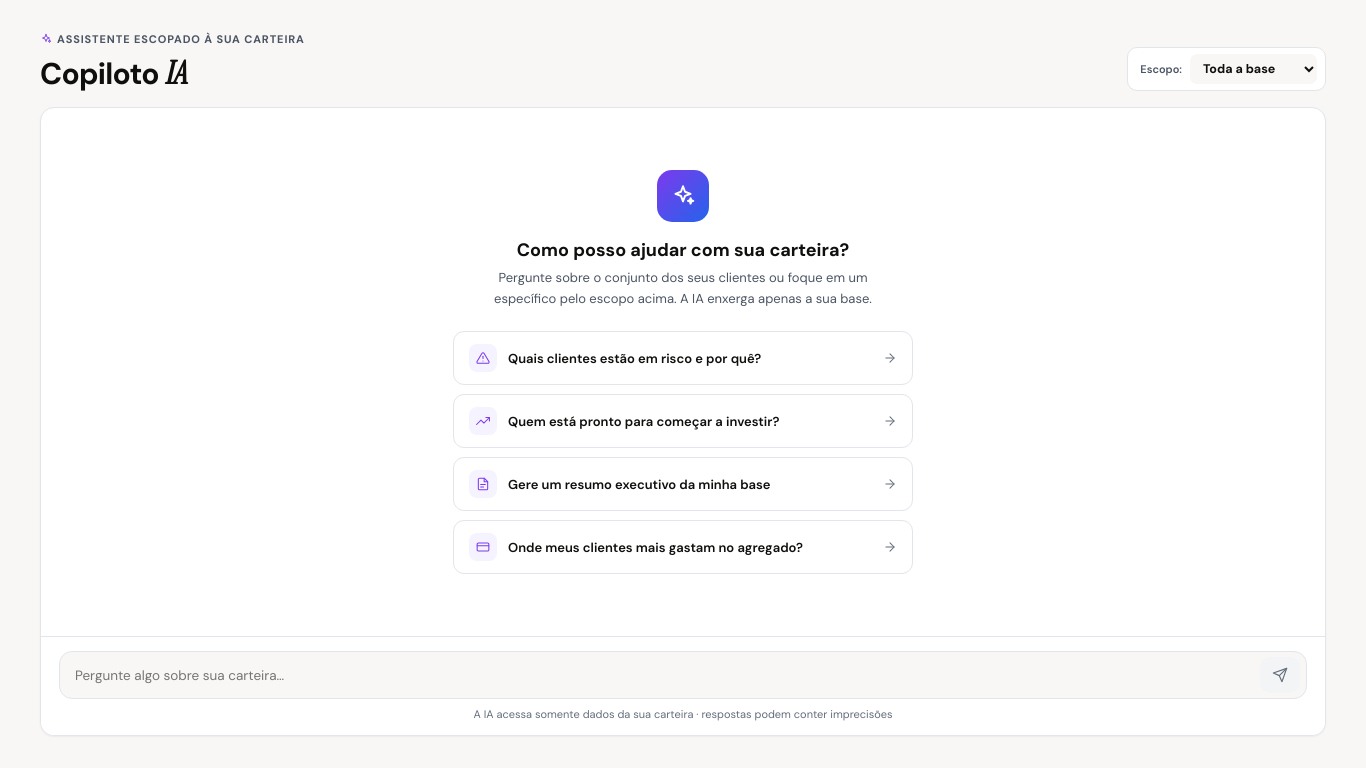
Test: ConsultantCopilotoPage › mostra estado de carregamento acessível enquanto prepara a resposta
This screenshot has width=1366, height=768.
Step 1. Type "onde gastam?" into the field named "Mensagem para o Copiloto" → (662, 675), box [75,658,1250,692]
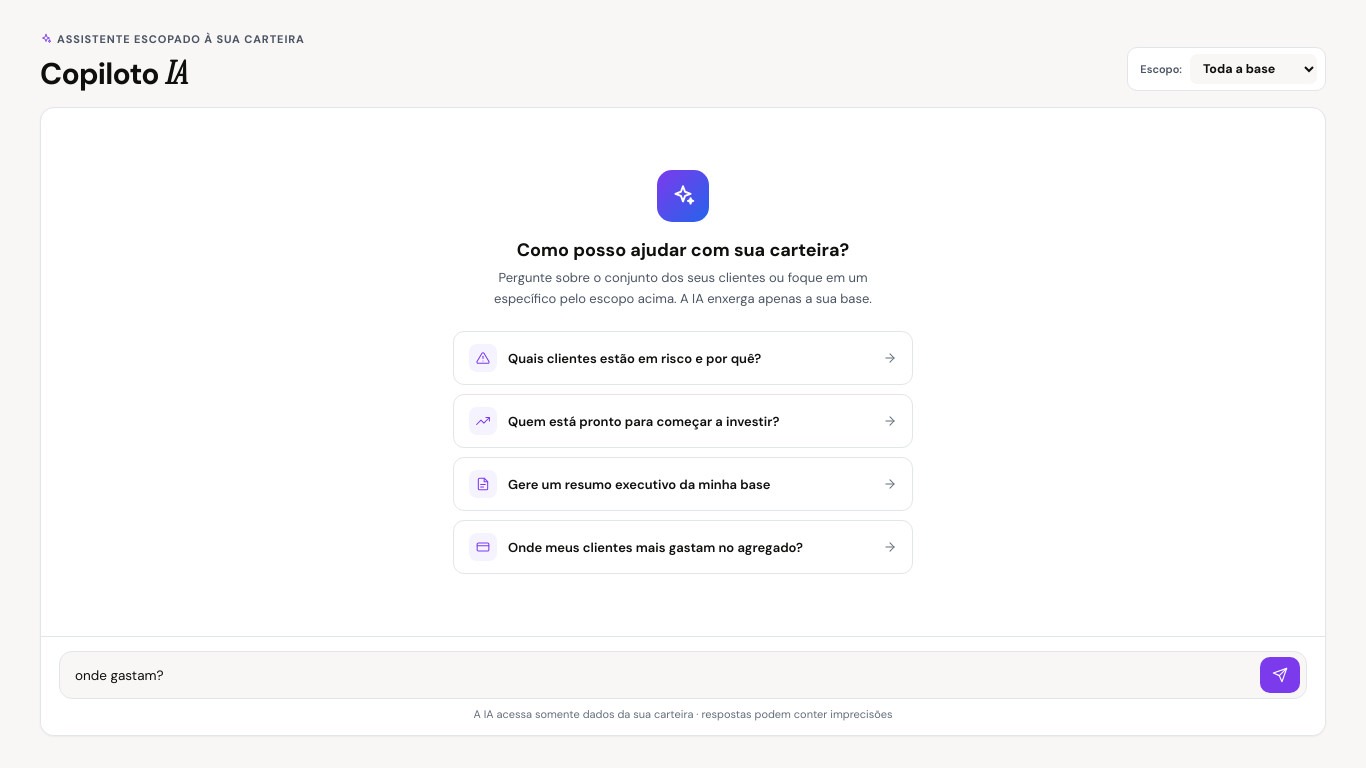
Step 2. Click the button named "Enviar mensagem" → (1280, 675), box [1260,657,1300,693]
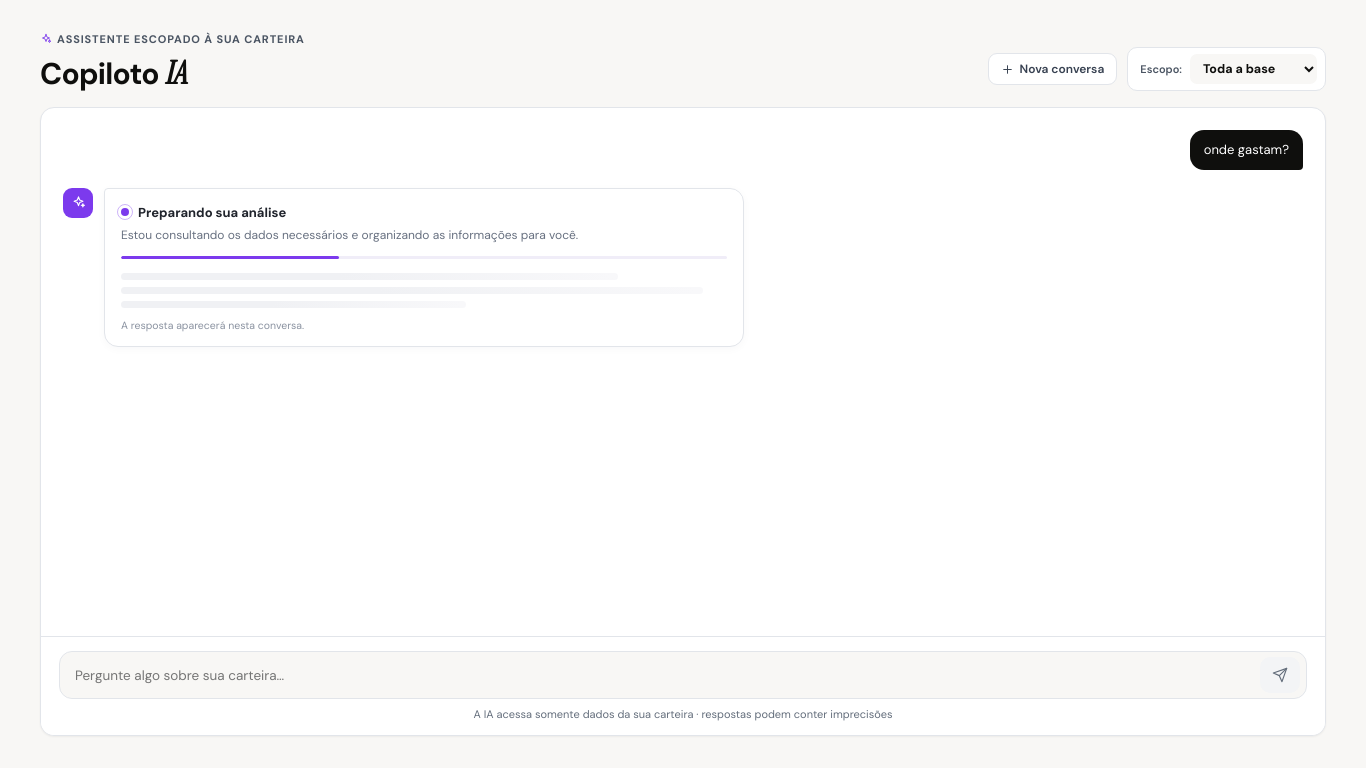
Expected: the text "Preparando sua análise" is shown, [121,204,286,221]
Expected: the text "consultando os dados necessários" is shown, [121,227,578,243]
Expected: the field named "Mensagem para o Copiloto" is disabled, [75,658,1250,692]
